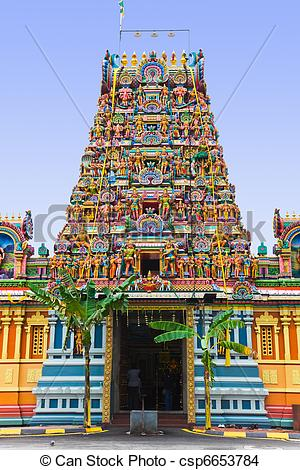Hindu Temple: (45, 47, 262, 421)
